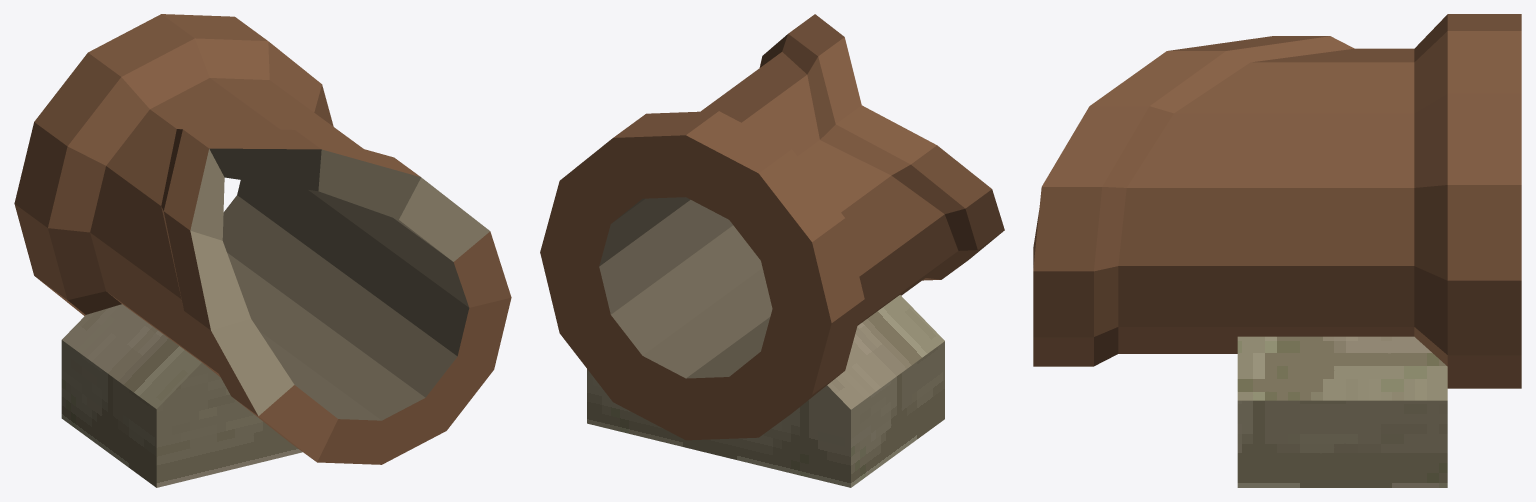
The model's file is sheared_wall_pipe.glb.
3 renders of one model, left to right at view 1: azimuth 30°, elevation 25°; view 2: azimuth 150°, elevation 25°; view 3: azimuth 270°, elevation 25°, orthographic. The views are drawn at different scales.
Parts seen in each view (by area): view 1: Sheared wall pipe; view 2: Sheared wall pipe; view 3: Sheared wall pipe.
Part boxes in pixels (x1=…): Sheared wall pipe: x1=14, y1=14, x2=511, y2=487; Sheared wall pipe: x1=540, y1=14, x2=1004, y2=487; Sheared wall pipe: x1=1033, y1=14, x2=1521, y2=487.
Bounding box in the file's own units: 0.508 × 0.574 × 0.66.
Materials: 4 (1 with a texture image).
